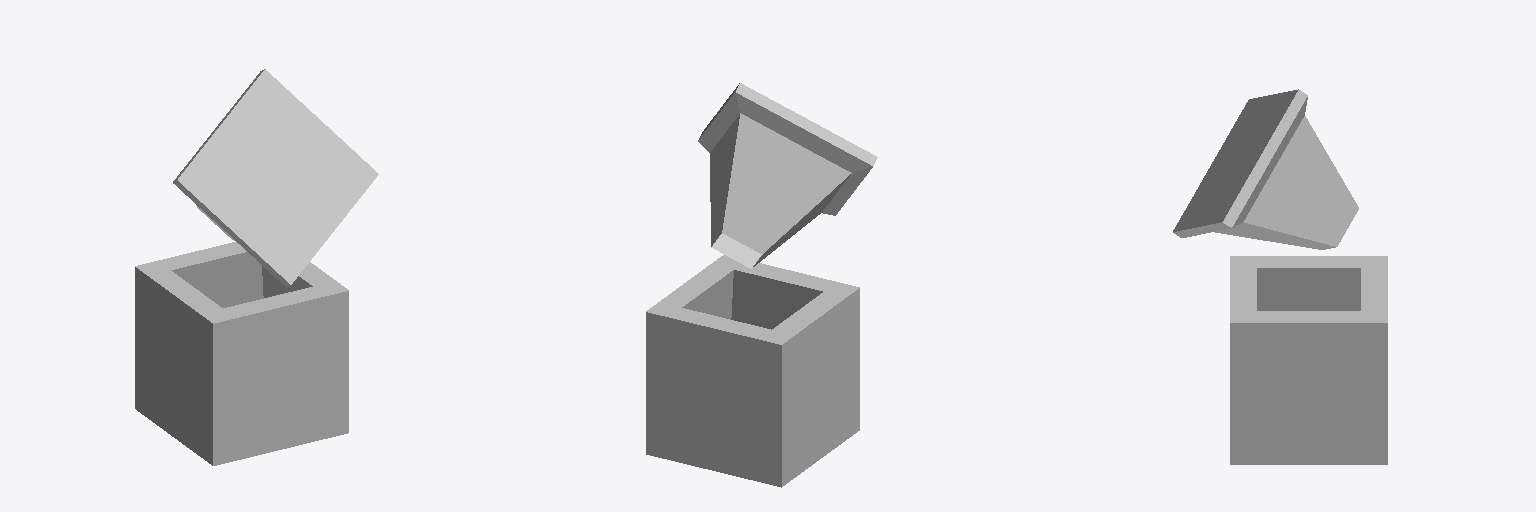
Rendered from AnimatedBox_000020.obj.
3 renders of one model, left to right at view 1: azimuth 30°, elevation 25°; view 2: azimuth 150°, elevation 25°; view 3: azimuth 270°, elevation 25°, orthographic.
Visible parts, largest first — view 1: Cube, Cube.001; view 2: Cube, Cube.001; view 3: Cube, Cube.001.
Part boxes in pixels (left/top/right/bottom): Cube: left=135, top=242, right=348, bottom=465; Cube.001: left=173, top=69, right=378, bottom=287; Cube: left=646, top=255, right=859, bottom=487; Cube.001: left=698, top=83, right=877, bottom=268; Cube: left=1230, top=256, right=1387, bottom=464; Cube.001: left=1173, top=89, right=1358, bottom=249.
Bounding box in the file's own units: 2.78 × 4.93 × 2.74.